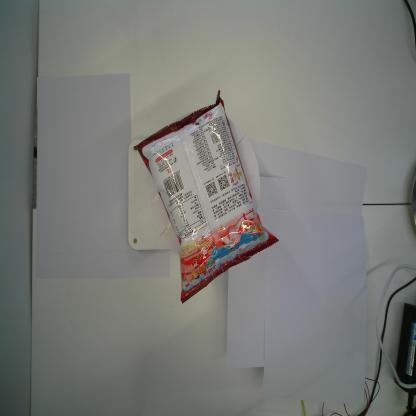Puffed Food: (134, 89, 280, 304)
